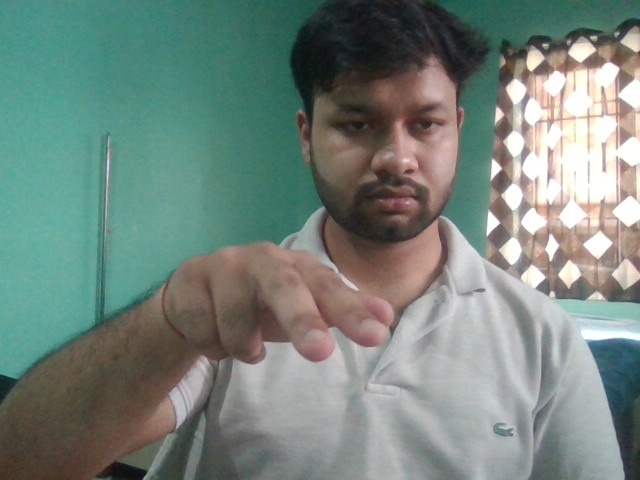No: (161, 238, 396, 367)
